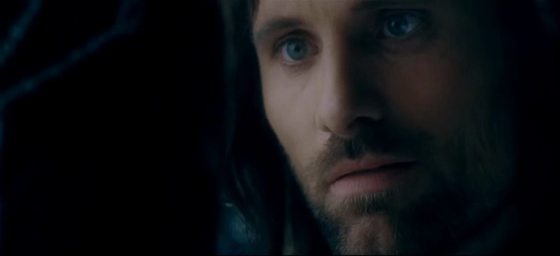ecu: (1, 1, 560, 256)
face: (252, 1, 477, 256)
person: (224, 1, 560, 256)
